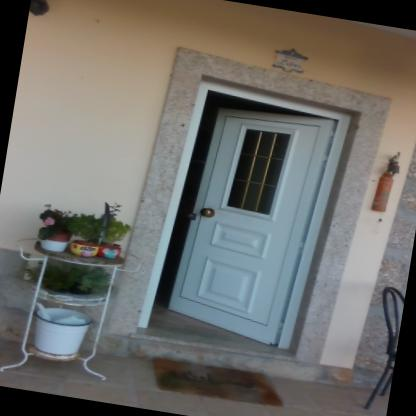semi: (132, 66, 364, 374)
